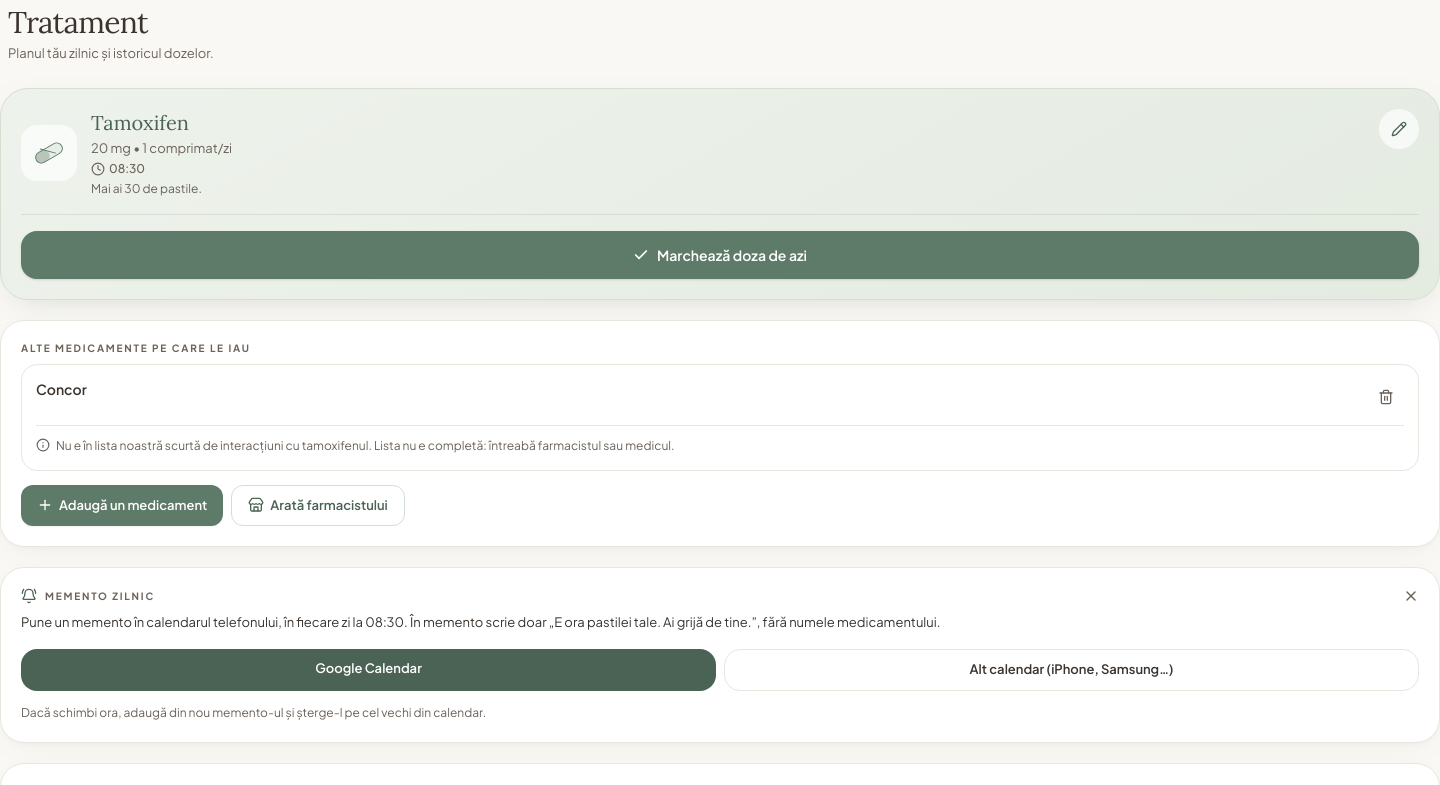
Scenario: În Tratament › șterge un medicament după confirmare
Step 1. Click the button named "Șterge Concor" → (1386, 397), box top-left (1368, 379), bottom-right (1404, 415)
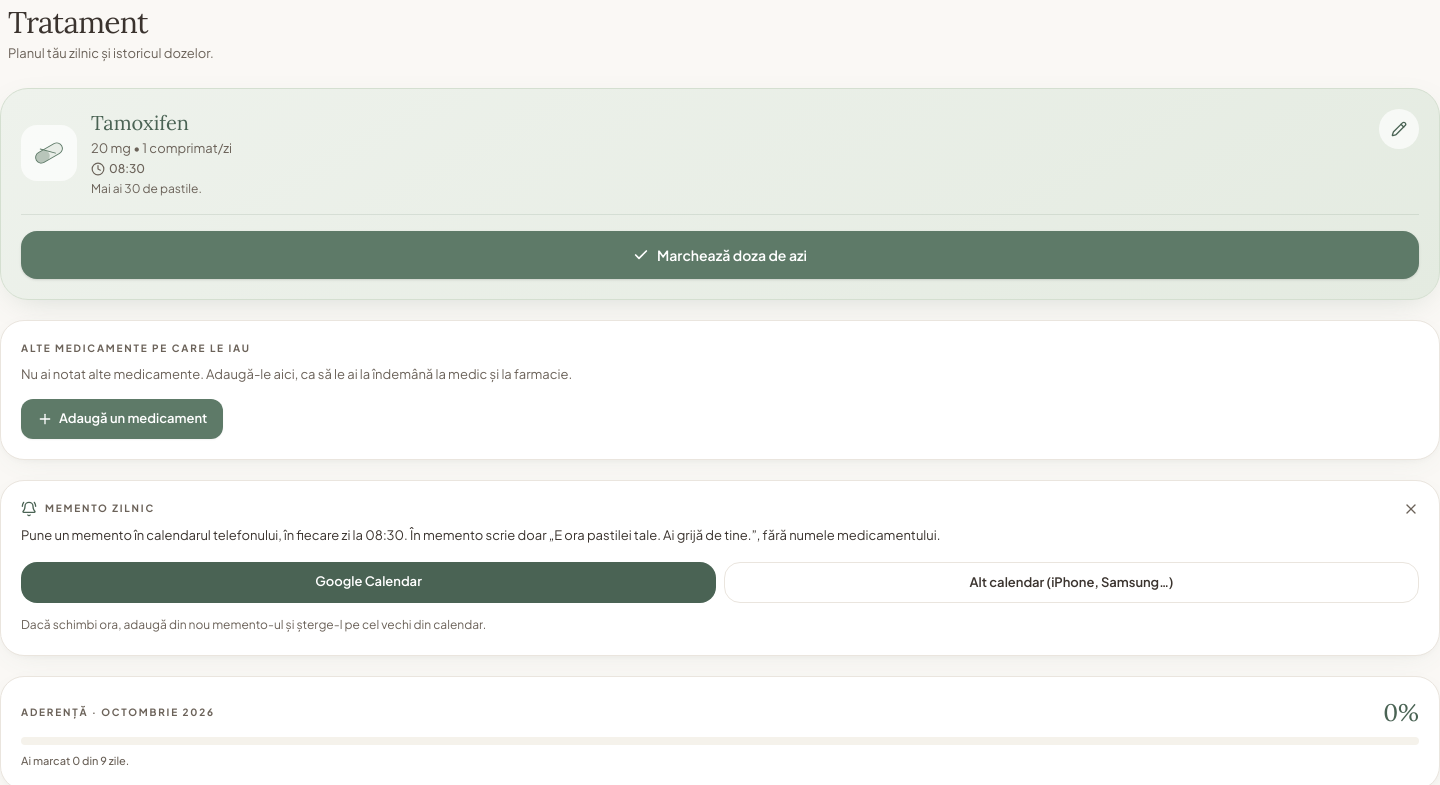
Expected: the text "Concor" is gone
